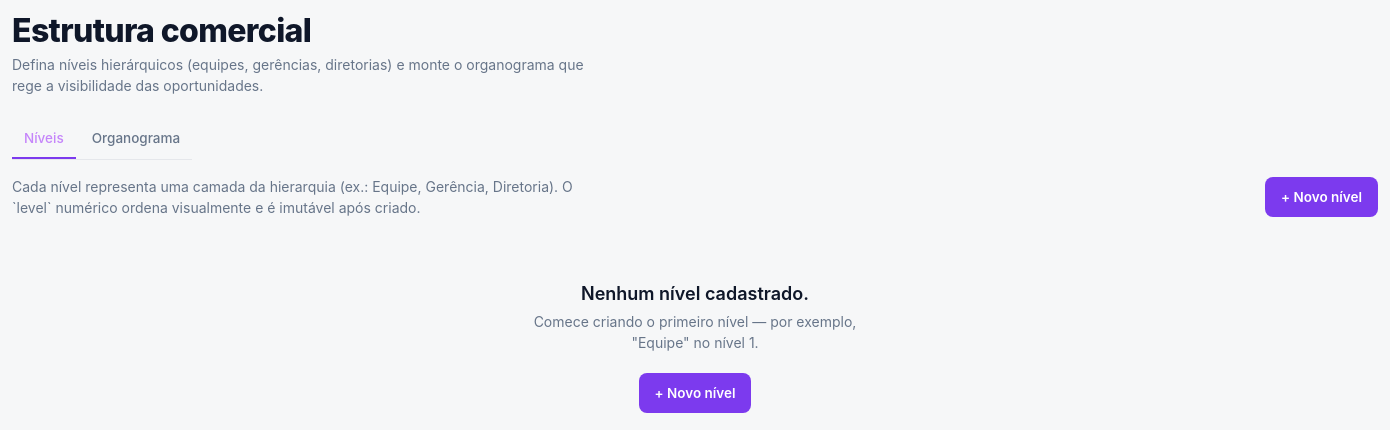
/admin/commercial-structure (Sprint 15G Fase 4a) › tab Organograma com tree vazio mostra EmptyState com CTA
This screenshot has width=1390, height=430.
Click the tab "Organograma".
click(136, 140)  # box [80,120,192,159]
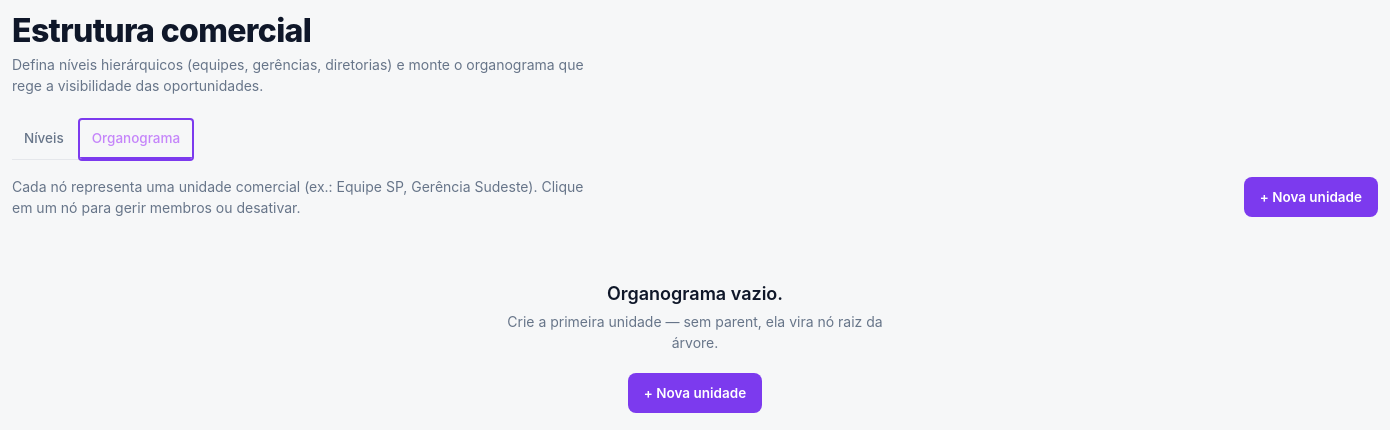
Expected: the heading "Organograma vazio." is shown, [607,282,783,305]
Expected: the 1st button "+ Nova unidade" is shown, [1244,177,1378,217]
